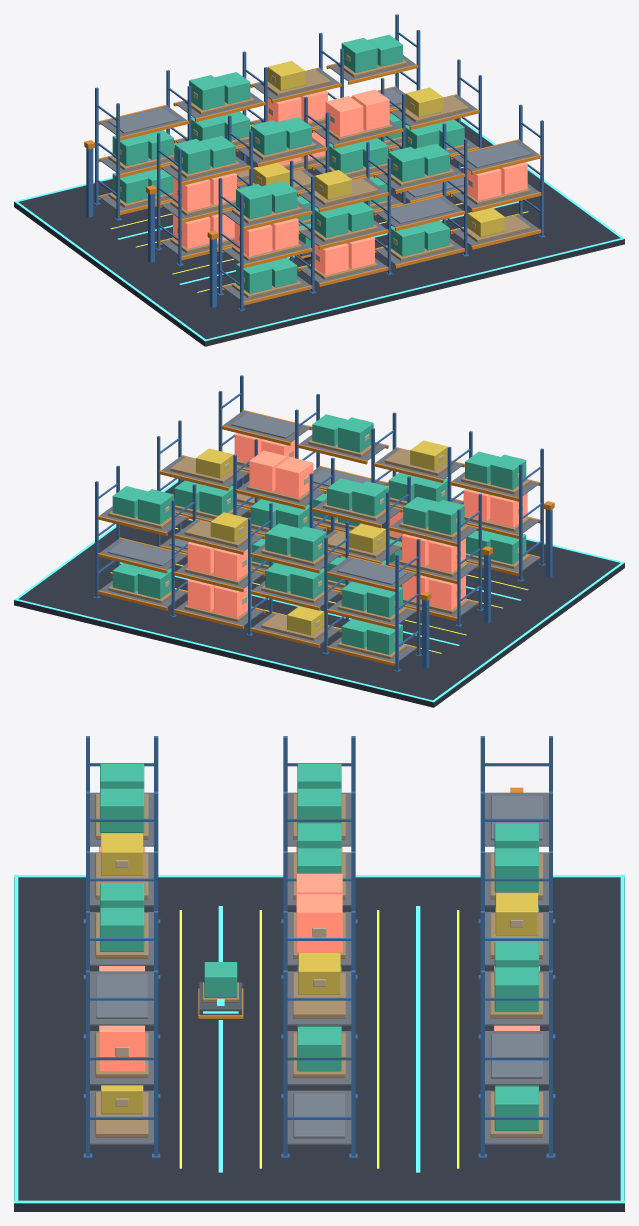
The model's file is warehouse_3d.glb.
3 views of the same model, one above another, from view 1: azimuth 30°, elevation 25°; view 2: azimuth 150°, elevation 25°; view 3: azimuth 270°, elevation 25° (orthographic). The views are drawn at different scales.
Parts seen in each view (by area): view 1: Floor_Platform, Rack_A, Rack_B, Rack_C, Slot_B-03-3, Slot_C-02-3, Slot_B-01-3, Slot_A-03-3, Slot_C-04-3, Slot_B-02-3, Slot_A-01-3, Slot_A-04-2 (+21 smaller); view 2: Floor_Platform, Rack_C, Rack_B, Rack_A, Slot_B-03-3, Slot_C-02-3, Slot_A-03-3, Slot_C-04-3, Slot_B-01-3, Slot_B-02-3, Slot_A-01-3, Slot_C-03-2 (+22 smaller); view 3: Floor_Platform, Rack_C, Rack_A, Rack_B, Slot_B-03-3, Slot_C-04-3, Slot_A-03-3, Slot_C-02-3, Slot_A-01-3, Slot_B-04-3, Slot_B-01-3, Slot_B-02-3 (+11 smaller).
Boxes of the visible parts, x1,y1,x2,y2 form: Floor_Platform: [14, 119, 624, 346]; Rack_A: [207, 104, 545, 311]; Rack_B: [146, 59, 481, 266]; Rack_C: [84, 14, 420, 220]; Slot_B-03-3: [323, 89, 392, 141]; Slot_C-02-3: [184, 72, 254, 114]; Slot_B-01-3: [170, 136, 239, 178]; Slot_A-03-3: [384, 143, 454, 186]; Slot_C-04-3: [337, 34, 406, 77]; Slot_B-02-3: [246, 117, 315, 159]; Slot_A-01-3: [232, 181, 301, 223]; Slot_A-04-2: [461, 162, 530, 205]; Floor_Platform: [14, 475, 624, 707]; Rack_C: [93, 465, 431, 672]; Rack_B: [157, 420, 492, 627]; Rack_A: [218, 375, 554, 581]; Slot_B-03-3: [246, 450, 315, 502]; Slot_C-02-3: [261, 523, 330, 566]; Slot_A-03-3: [308, 414, 377, 457]; Slot_C-04-3: [108, 486, 177, 528]; Slot_B-01-3: [399, 497, 468, 539]; Slot_B-02-3: [323, 478, 392, 520]; Slot_A-01-3: [461, 451, 530, 494]; Slot_C-03-2: [184, 542, 254, 584]; Floor_Platform: [14, 874, 624, 1211]; Rack_C: [478, 736, 555, 1158]; Rack_A: [83, 736, 160, 1158]; Rack_B: [281, 736, 357, 1158]; Slot_B-03-3: [293, 873, 345, 958]; Slot_C-04-3: [490, 942, 543, 1018]; Slot_A-03-3: [95, 883, 148, 958]; Slot_C-02-3: [490, 823, 543, 899]; Slot_A-01-3: [95, 763, 148, 839]; Slot_B-04-3: [293, 952, 345, 1018]; Slot_B-01-3: [293, 763, 345, 839]; Slot_B-02-3: [293, 823, 345, 899].
Size of the model in its own units: 16.5 by 4.55 by 13.
